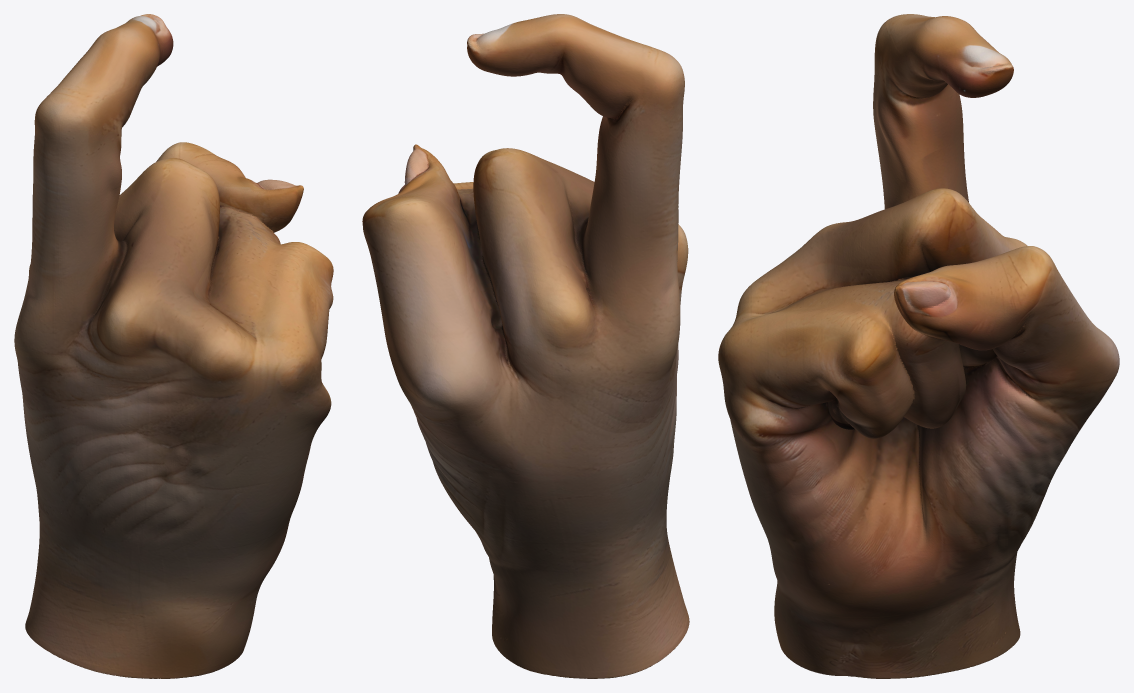
File: letter_X.glb
3 views of the same model, side by side, from view 1: azimuth 30°, elevation 25°; view 2: azimuth 150°, elevation 25°; view 3: azimuth 270°, elevation 25° (orthographic). The views are drawn at different scales.
Parts seen in each view (by area): view 1: tripo_node_d1cafb51-c1fb-4bfa-96ab-16693f6e9c4d; view 2: tripo_node_d1cafb51-c1fb-4bfa-96ab-16693f6e9c4d; view 3: tripo_node_d1cafb51-c1fb-4bfa-96ab-16693f6e9c4d.
Boxes of the visible parts, left/top/right/bottom form: tripo_node_d1cafb51-c1fb-4bfa-96ab-16693f6e9c4d: left=14, top=14, right=333, bottom=678; tripo_node_d1cafb51-c1fb-4bfa-96ab-16693f6e9c4d: left=362, top=14, right=689, bottom=678; tripo_node_d1cafb51-c1fb-4bfa-96ab-16693f6e9c4d: left=718, top=14, right=1119, bottom=678.
Bounding box in the file's own units: 0.489 × 1 × 0.5852.
Materials: 1 (1 with a texture image).
